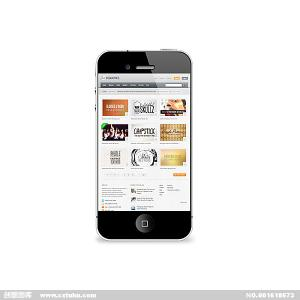phone: (99, 52, 194, 241)
